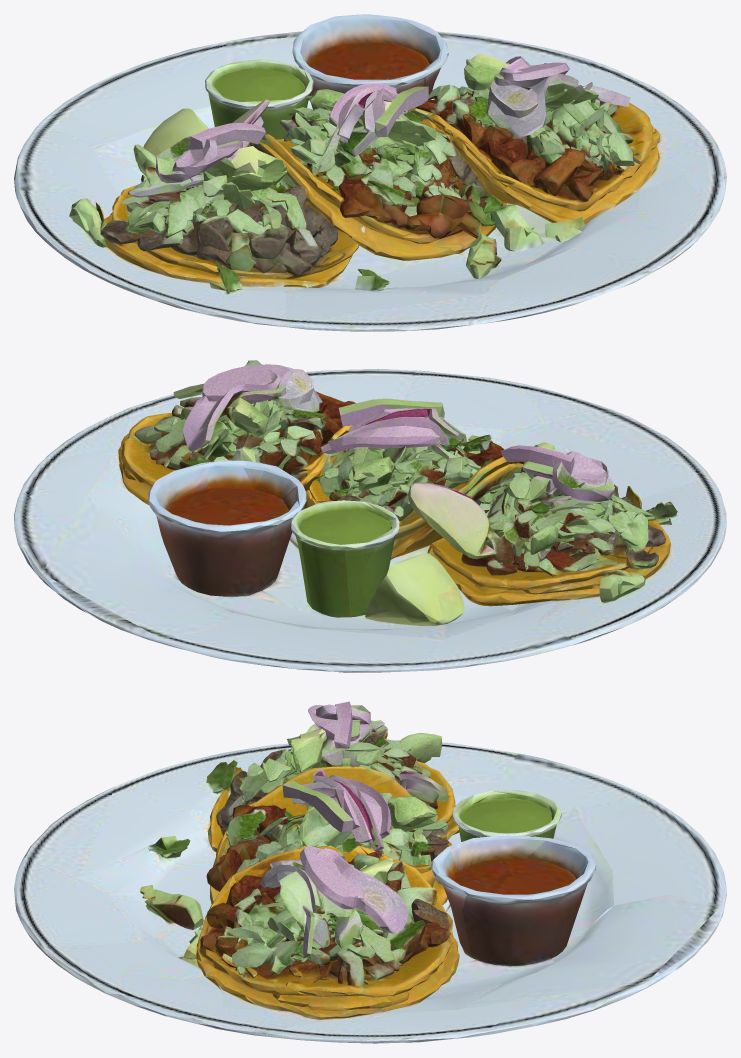
The model's file is birria-tacos.glb.
3 views of the same model, one above another, from view 1: azimuth 30°, elevation 25°; view 2: azimuth 150°, elevation 25°; view 3: azimuth 270°, elevation 25° (orthographic).
Bounding box in the file's own units: 1.9 × 0.4118 × 1.9.
1 material, 1 textured.
